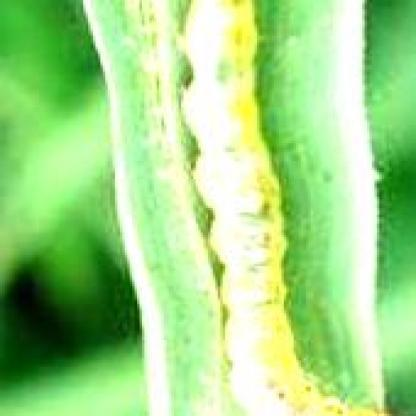leaf-folder: (154, 8, 376, 416)
